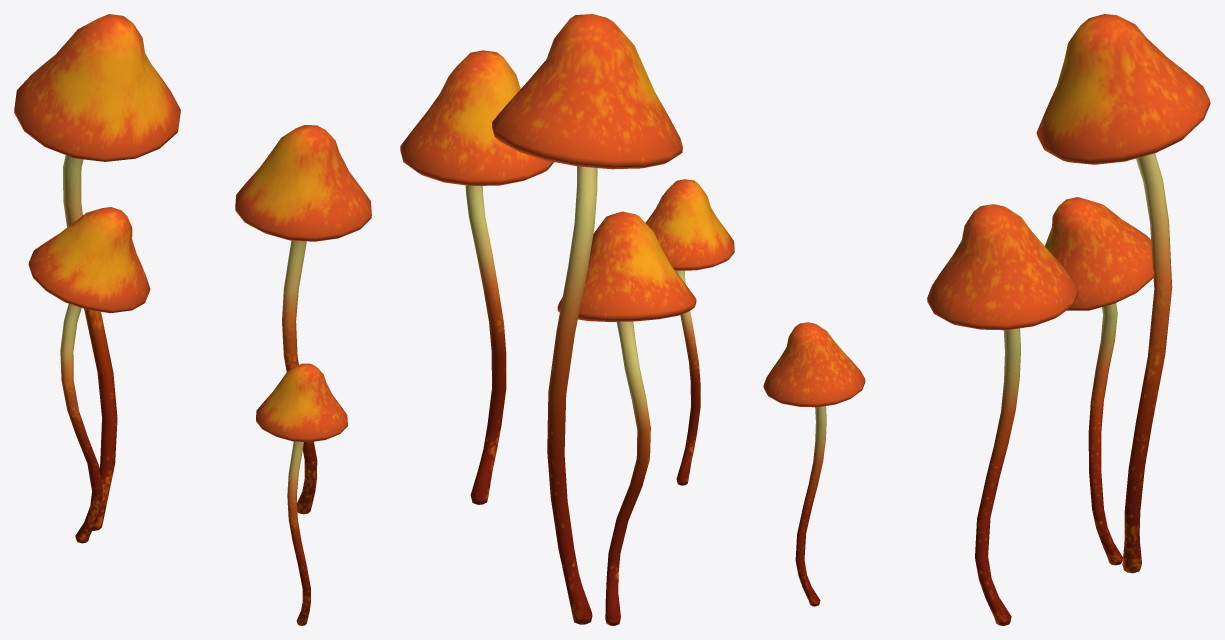
Rendered from Cartoon Seaweed_13-1-5.fbx.
3 renders of one model, left to right at view 1: azimuth 30°, elevation 25°; view 2: azimuth 150°, elevation 25°; view 3: azimuth 270°, elevation 25°, orthographic. The views are drawn at different scales.
Visible parts, largest first — view 1: Cartoon Seaweed_13.1.5; view 2: Cartoon Seaweed_13.1.5; view 3: Cartoon Seaweed_13.1.5.
Part boxes in pixels (bbox=[...]): Cartoon Seaweed_13.1.5: bbox=[14, 14, 371, 625]; Cartoon Seaweed_13.1.5: bbox=[400, 14, 734, 625]; Cartoon Seaweed_13.1.5: bbox=[763, 14, 1210, 625].
Size of the model in its own units: 14.73 by 25.92 by 18.73.
Materials: 1 (1 with a texture image).
